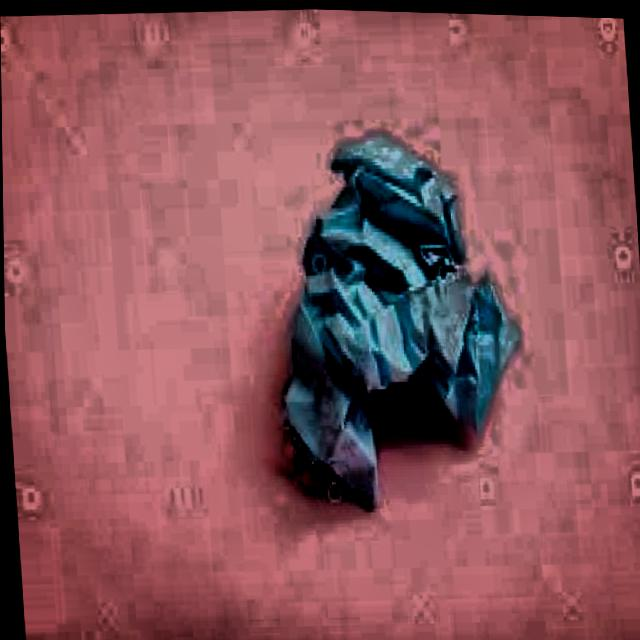Paper: (261, 120, 527, 515)
